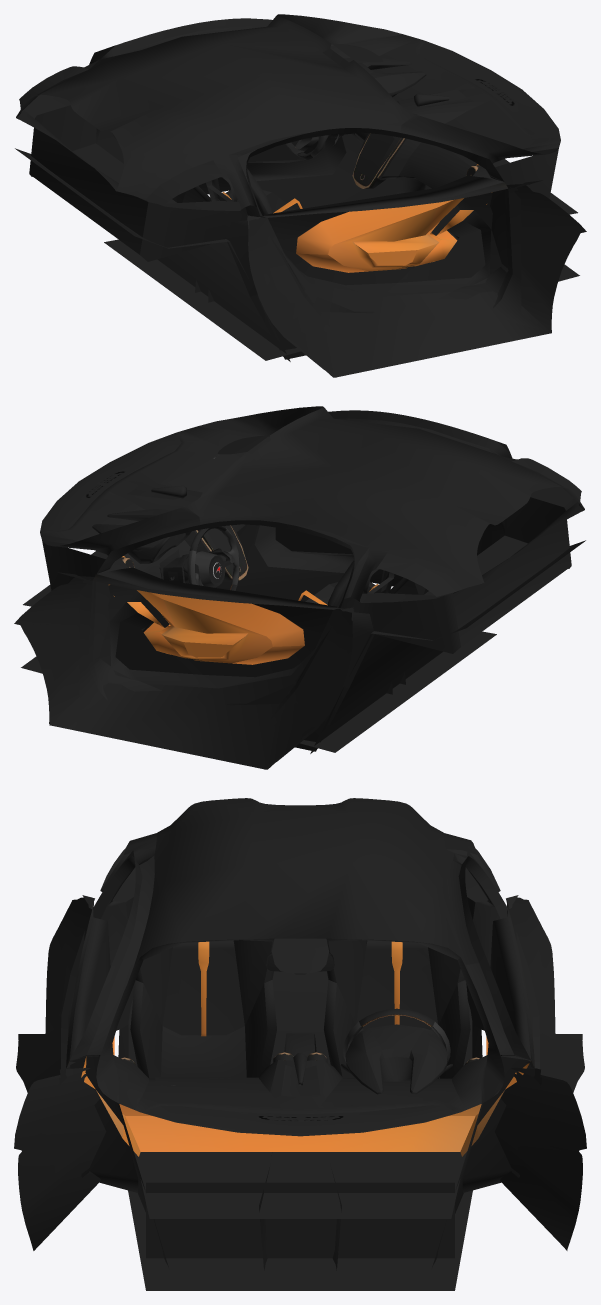
Rendered from mc570_int.glb.
3 views of the same model, one above another, from view 1: azimuth 30°, elevation 25°; view 2: azimuth 150°, elevation 25°; view 3: azimuth 270°, elevation 25° (orthographic). The views are drawn at different scales.
Parts seen in each view (by area): view 1: body; view 2: body; view 3: body.
Part boxes in pixels (x1,y1,x2,y2): body: (15, 14, 586, 377); body: (14, 406, 585, 769); body: (14, 798, 586, 1290).
Size of the model in its own units: 2.04 by 1.03 by 1.9.
2 materials, 1 textured.
